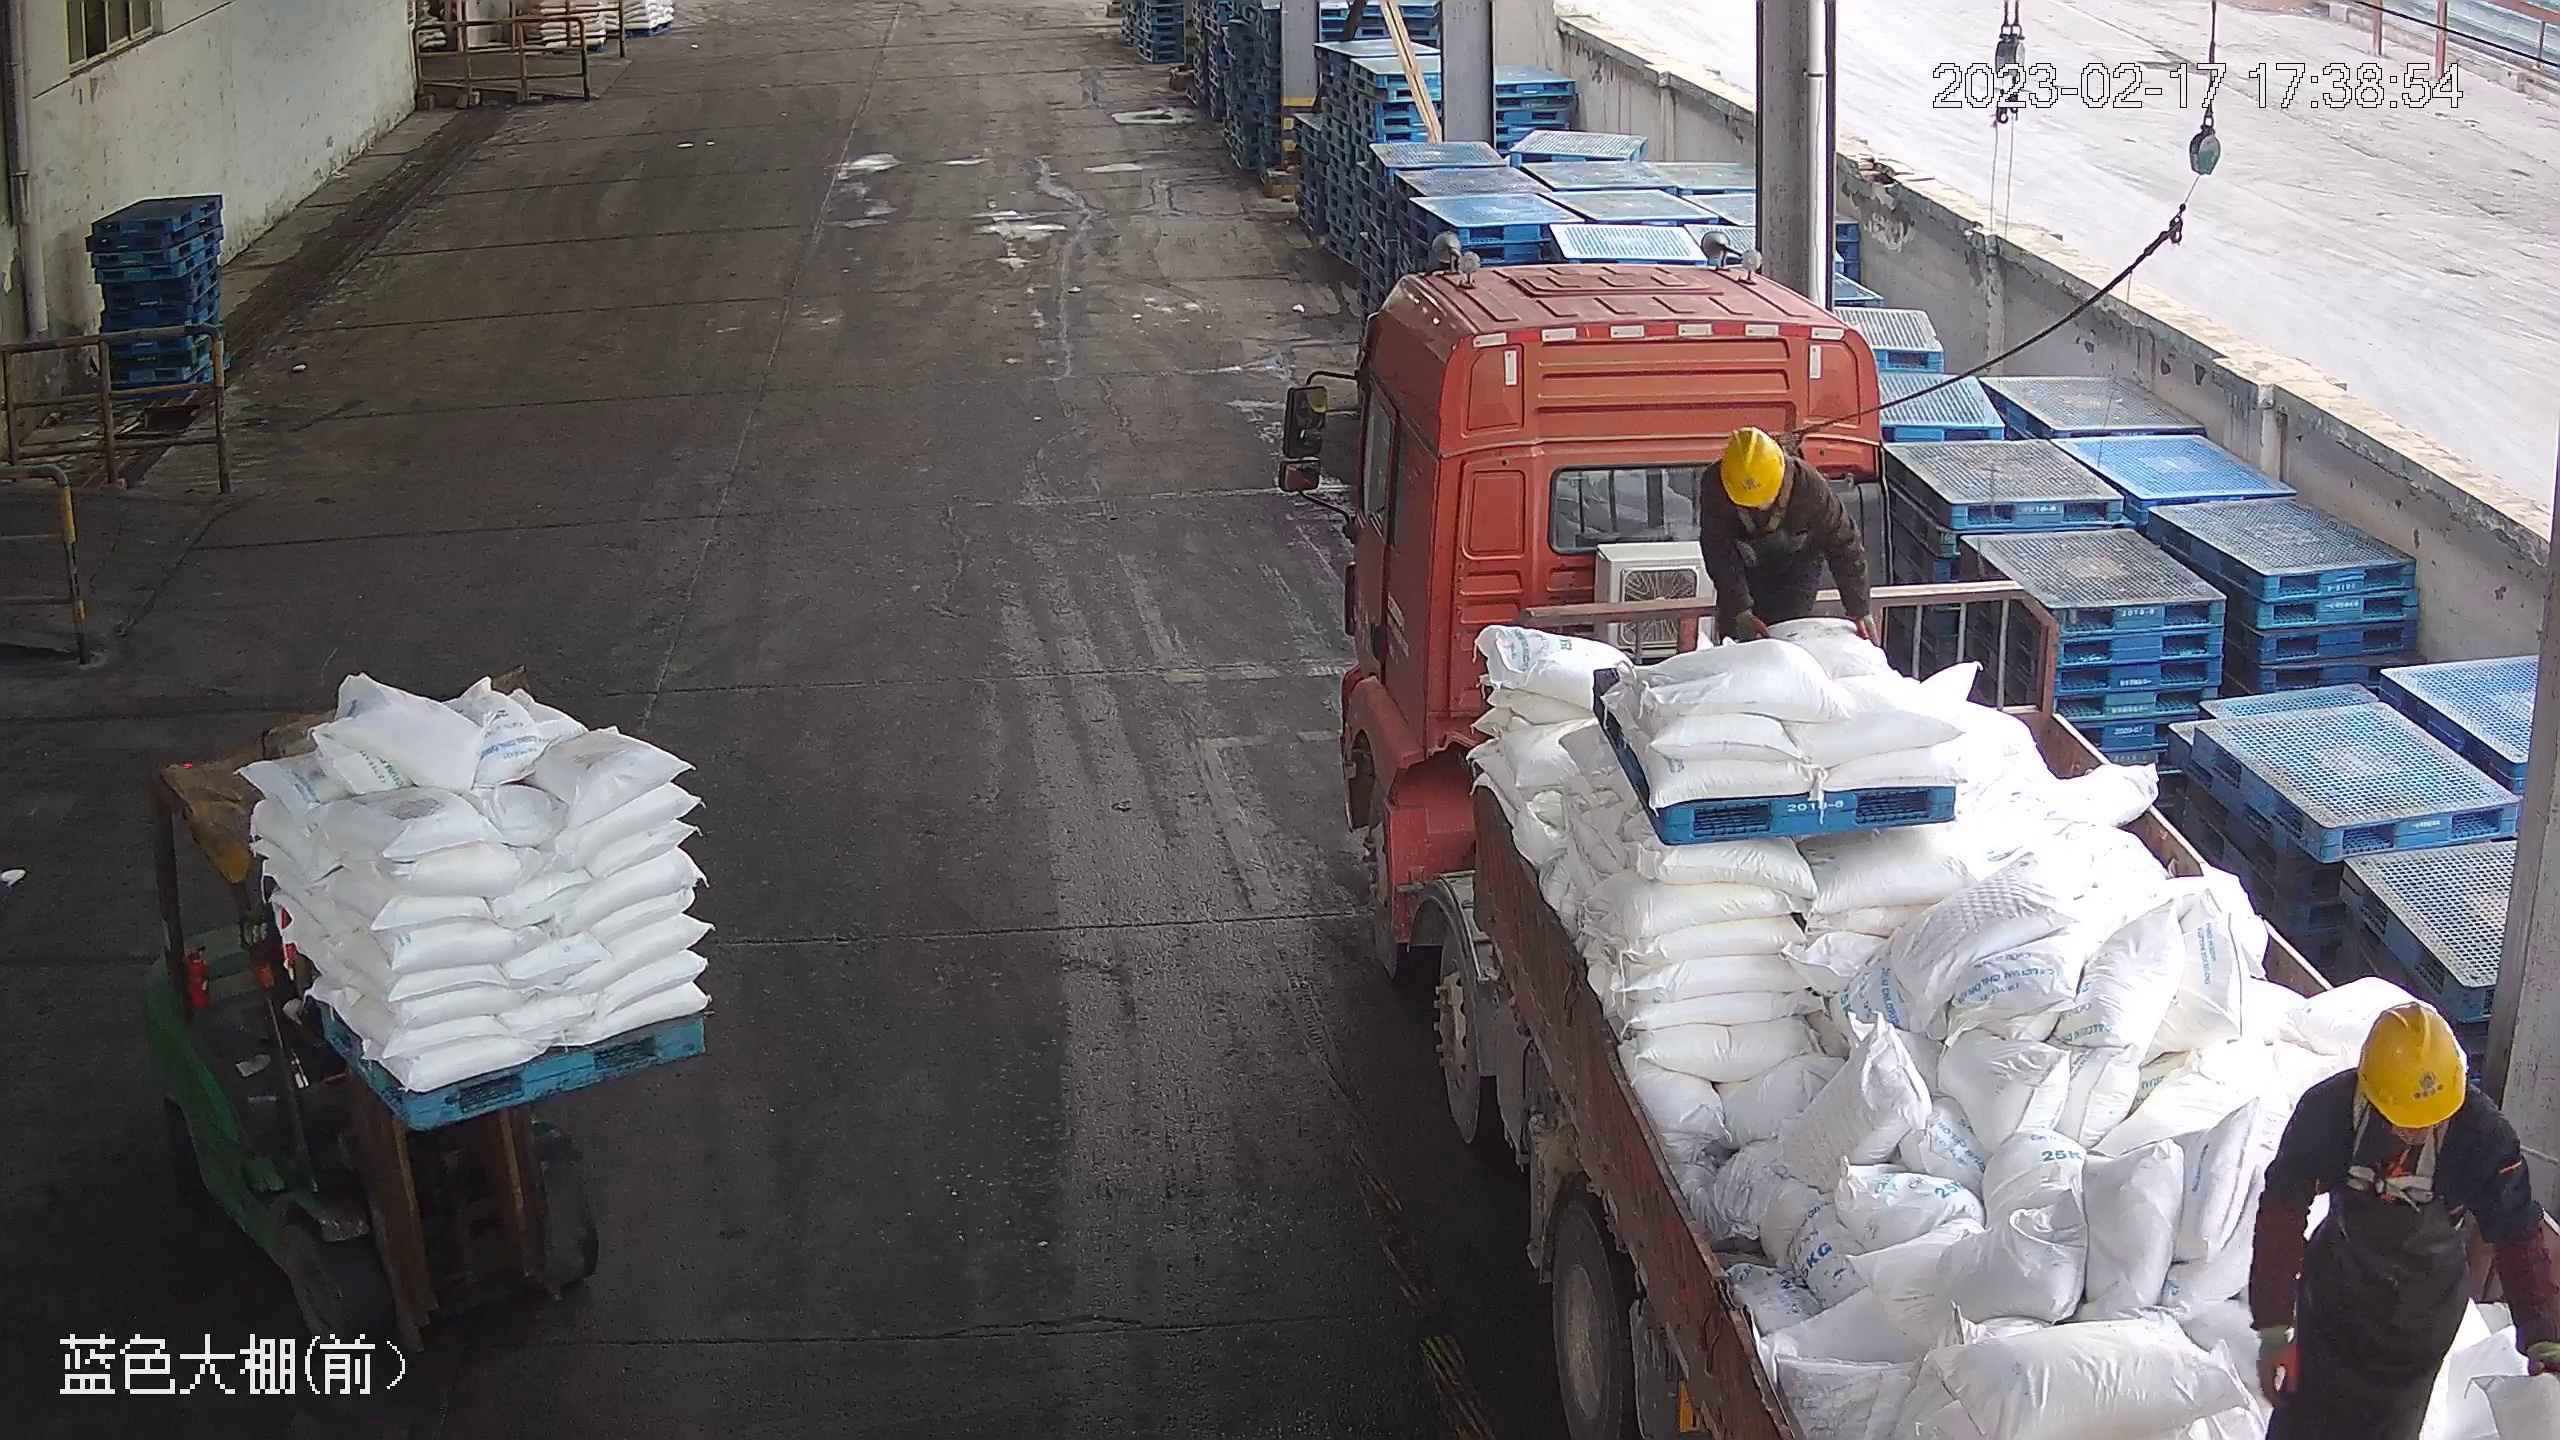belt: (2333, 1075, 2498, 1202), (1728, 465, 1808, 547)
head: (2277, 999, 2517, 1209), (1695, 425, 1834, 532)
helmet: (2273, 999, 2526, 1209), (2356, 999, 2469, 1132), (1719, 424, 1789, 504)
people: (2243, 995, 2560, 1439), (1695, 424, 1873, 654)
truck: (1278, 206, 2558, 1440)
